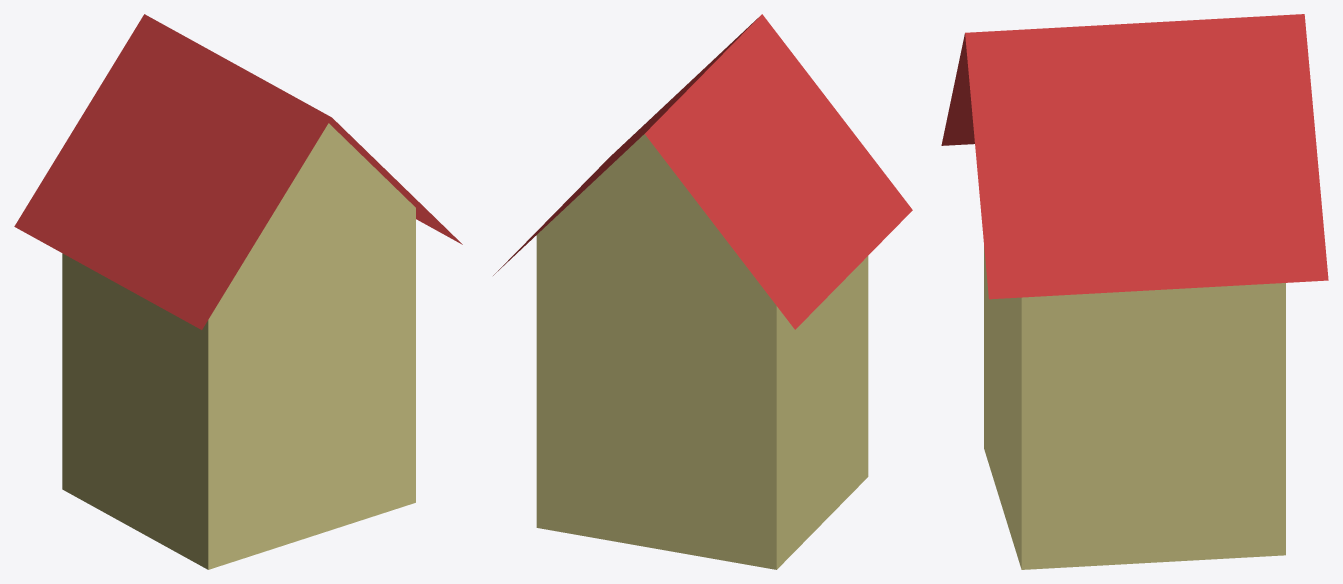
The picture shows the model from 3 angles, left to right: view 1: azimuth 30°, elevation 25°; view 2: azimuth 150°, elevation 25°; view 3: azimuth 270°, elevation 25°; orthographic projection. The views are drawn at different scales.
Visible parts, largest first — view 1: group_5, group_3, group_4; view 2: group_5, group_3, group_4; view 3: group_5, group_3, group_4.
Boxes of the visible parts, x1,y1,x2,y2 form: group_5: (62,123,415,569); group_3: (14,14,462,329); group_4: (15,14,331,329); group_5: (536,134,868,569); group_3: (537,14,912,329); group_4: (493,15,912,328); group_5: (984,246,1285,569); group_3: (941,14,1328,299); group_4: (942,14,1328,298).
Bounding box in the file's own units: 10.74 × 10.2 × 13.9.
